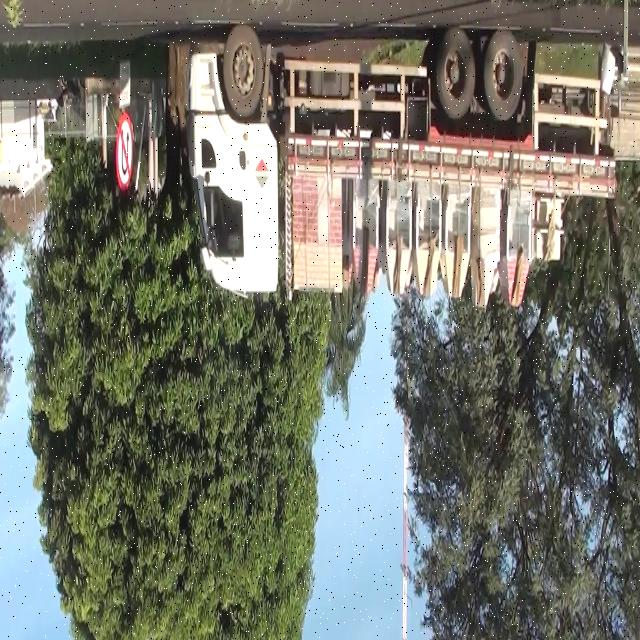-axle: (222, 25, 262, 120), (434, 31, 476, 119), (483, 36, 521, 121)
